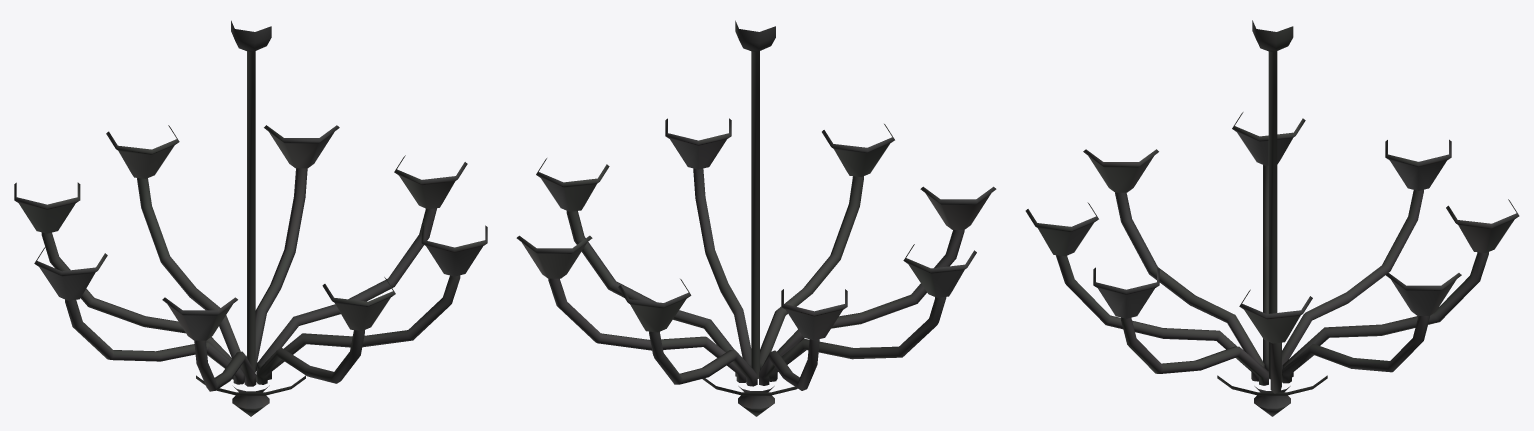
The model's file is chandelier-creativetrio.glb.
3 renders of one model, left to right at view 1: azimuth 30°, elevation 25°; view 2: azimuth 150°, elevation 25°; view 3: azimuth 270°, elevation 25°, orthographic.
Visible parts, largest first — view 1: Chandelier; view 2: Chandelier; view 3: Chandelier.
Part boxes in pixels (left/top/right/bottom): Chandelier: left=14, top=20, right=487, bottom=416; Chandelier: left=516, top=20, right=996, bottom=416; Chandelier: left=1025, top=20, right=1519, bottom=416.
Size of the model in its own units: 0.7592 by 0.6683 by 0.7592.
1 material, 1 textured.
